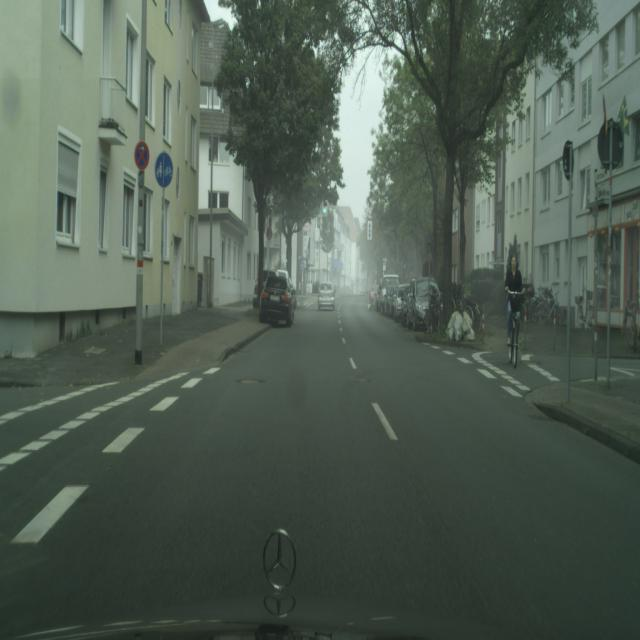bus: (258, 270, 297, 328), (404, 276, 442, 331), (379, 274, 399, 316), (253, 269, 272, 309), (393, 282, 409, 323), (318, 282, 336, 311), (391, 282, 404, 319), (368, 283, 378, 309)
car: (506, 258, 525, 368), (623, 293, 640, 351)
